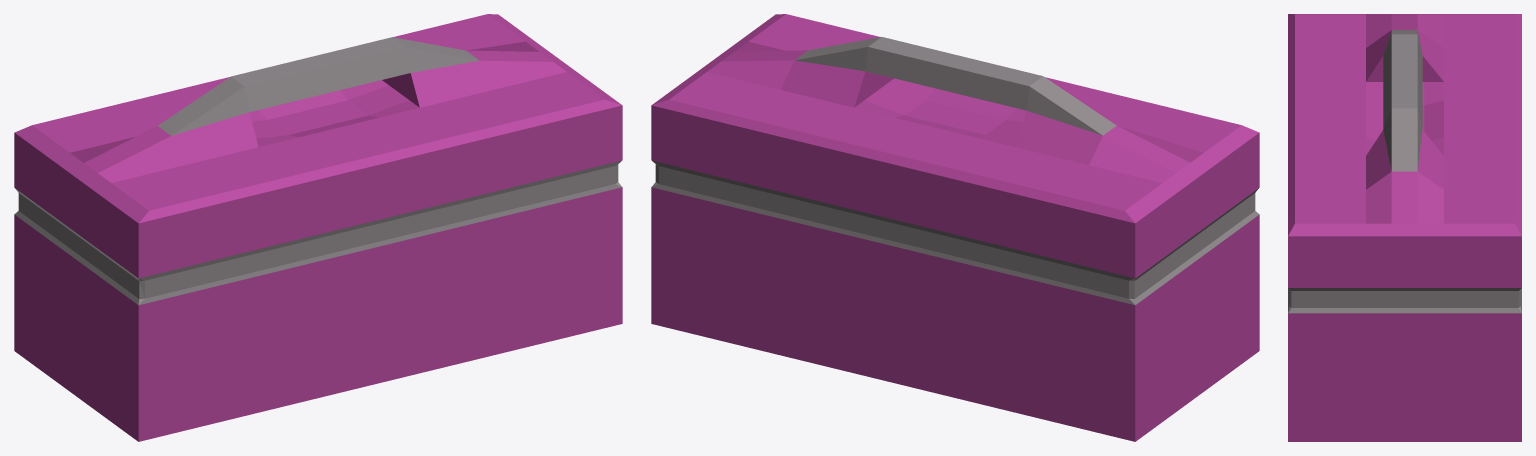
File: toolboxship.fbx
3 renders of one model, left to right at view 1: azimuth 30°, elevation 25°; view 2: azimuth 150°, elevation 25°; view 3: azimuth 270°, elevation 25°, orthographic. The views are drawn at different scales.
Visible parts, largest first — view 1: Cube.002; view 2: Cube.002; view 3: Cube.002.
Part boxes in pixels (bbox=[...]): Cube.002: bbox=[14, 14, 622, 441]; Cube.002: bbox=[651, 14, 1259, 441]; Cube.002: bbox=[1288, 14, 1521, 441].
Size of the model in its own units: 45 by 24.51 by 20.
